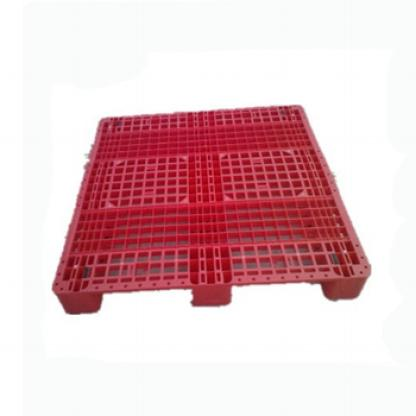BoxFace: (53, 99, 383, 316)
